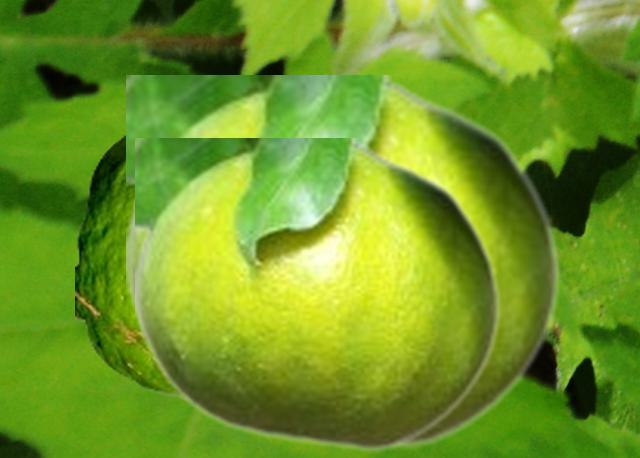dalandan: (126, 75, 561, 448), (135, 138, 501, 452), (75, 129, 180, 402)
